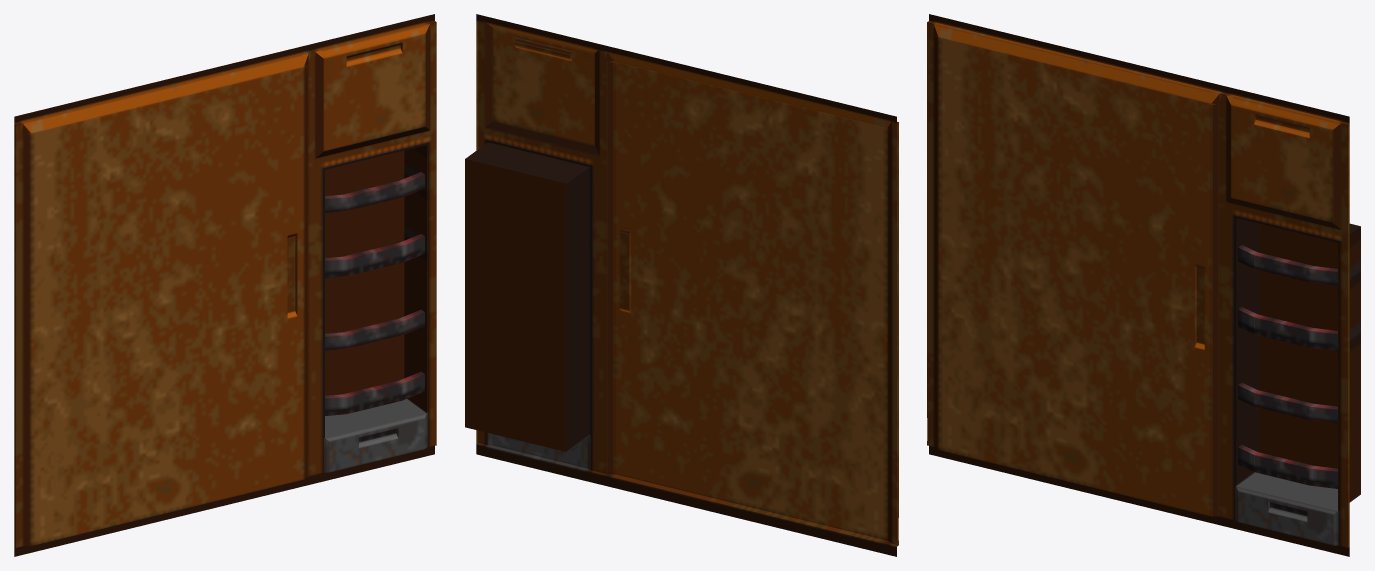
File: maint1_1.fbx
The picture shows the model from 3 angles, left to right: view 1: azimuth 30°, elevation 25°; view 2: azimuth 150°, elevation 25°; view 3: azimuth 330°, elevation 25°; orthographic projection.
Visible parts, largest first — view 1: maint1_1_mesh; view 2: maint1_1_mesh; view 3: maint1_1_mesh.
Part boxes in pixels (x1=…): maint1_1_mesh: x1=14, y1=14, x2=436, y2=556; maint1_1_mesh: x1=465, y1=14, x2=898, y2=556; maint1_1_mesh: x1=927, y1=14, x2=1360, y2=556.
Size of the model in its own units: 256 by 256 by 26.
